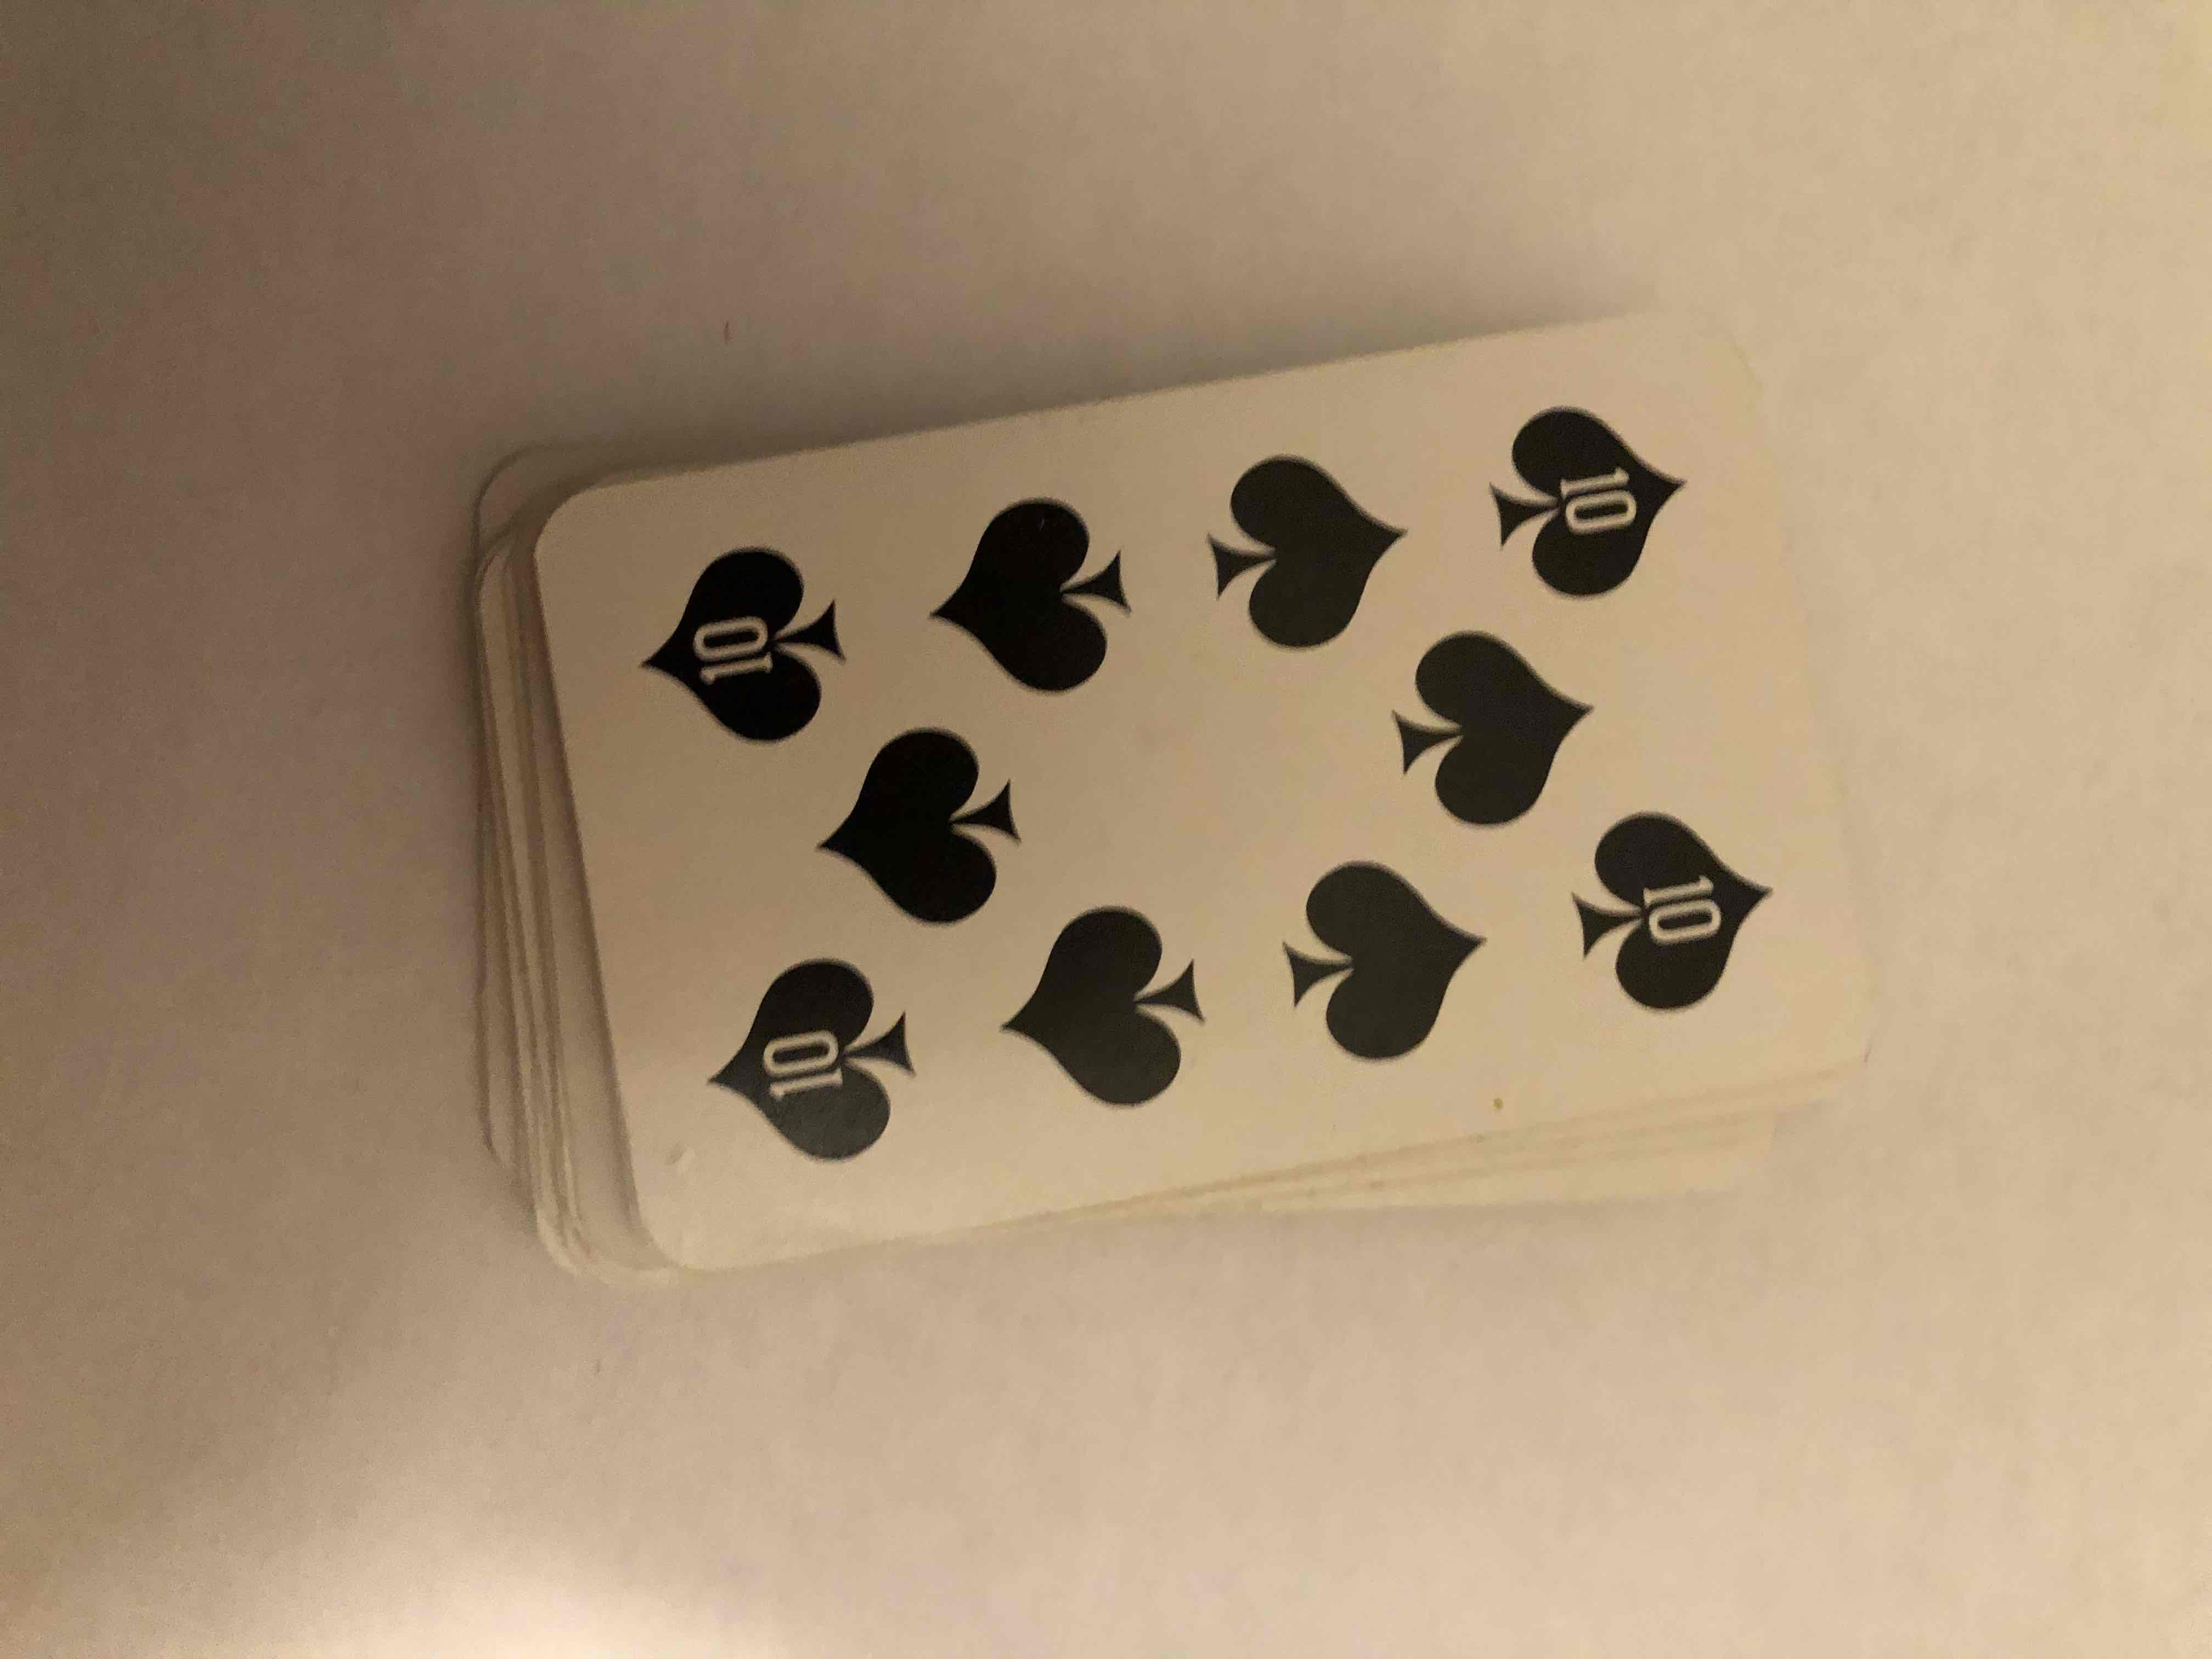spades10: (596, 322, 1799, 1246)
